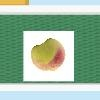half-ripe: (29, 38, 66, 73)
